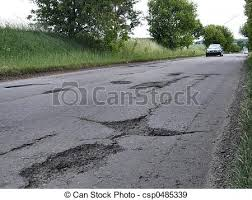pothole: (22, 145, 116, 188), (107, 113, 186, 141)
